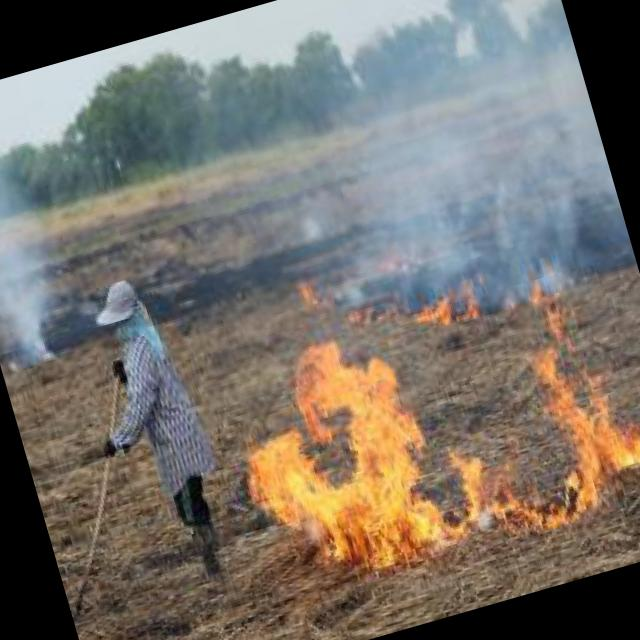fire: (236, 255, 640, 630)
smoke: (280, 0, 640, 364), (0, 160, 85, 375)
